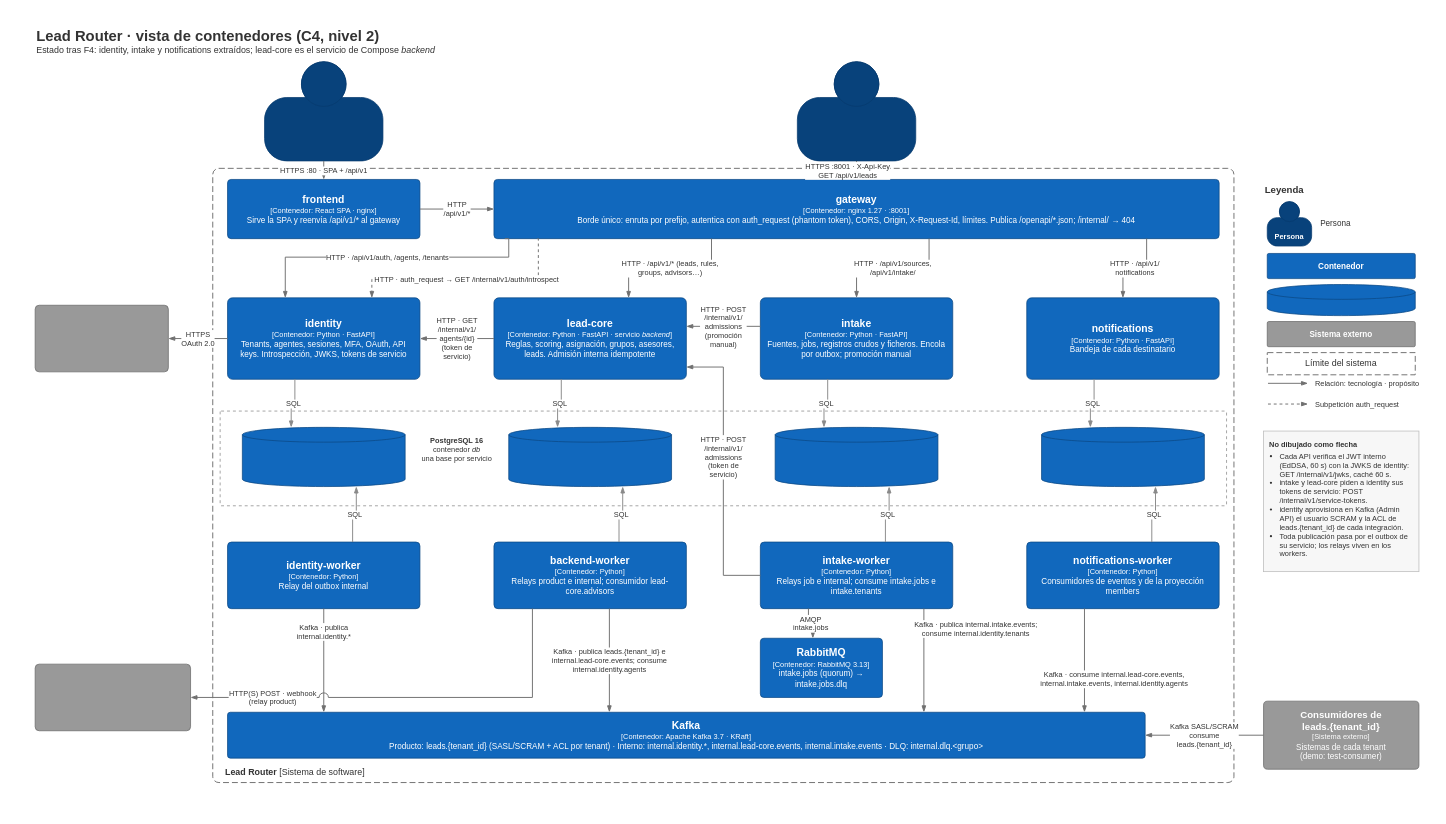
Image size: 1446x824. Some labels were removed from this diagram. Each missing label, with the centre of its shape:
Base de datos: the point at 1341,300
Gestor / Asesor [Persona] Navegador, cookie de sesión opaca: the point at 323,111
identity_db [Contenedor: PostgreSQL · rol identity_svc]: the point at 323,457
intake_db [Contenedor: PostgreSQL · rol intake_svc]: the point at 856,457
Integración del cliente [Persona] Sistema del tenant con X-Api-Key: the point at 856,111
leads_db [Contenedor: PostgreSQL · rol postgres hasta F5]: the point at 590,457
notifications_db [Contenedor: PostgreSQL · rol notifications_svc]: the point at 1122,457
Proveedores OAuth [Sistema externo] Google · GitHub: the point at 101,338
Webhooks de clientes [Sistema externo] Endpoints HTTP configurados por tenant: the point at 112,697
